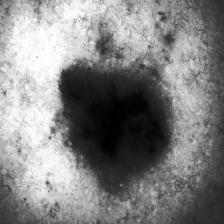Benign Marking or Mole: (56, 60, 175, 173)
